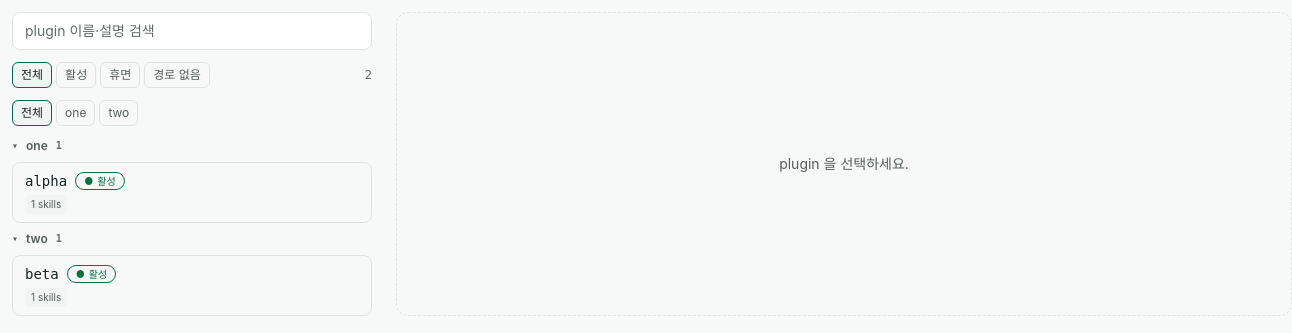
Test: PluginCatalog 토글 › 그룹 헤더 클릭 시 해당 그룹 plugin 이 사라졌다 나타난다
Expected: the text "alpha" is shown, [25, 171, 67, 191]
Click the button "▾ one 1": (15, 146) [12, 138, 372, 154]
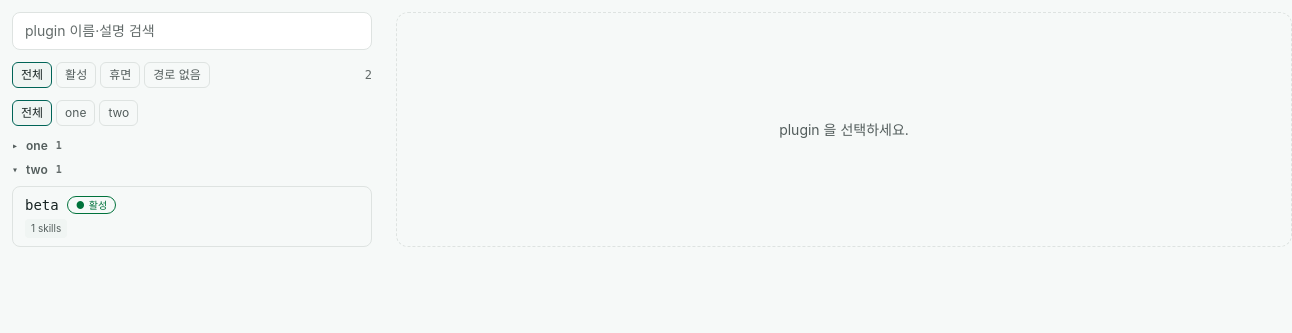
Expected: the button "alpha" is gone
Click the button "▸ one 1": (15, 146) [12, 138, 372, 154]
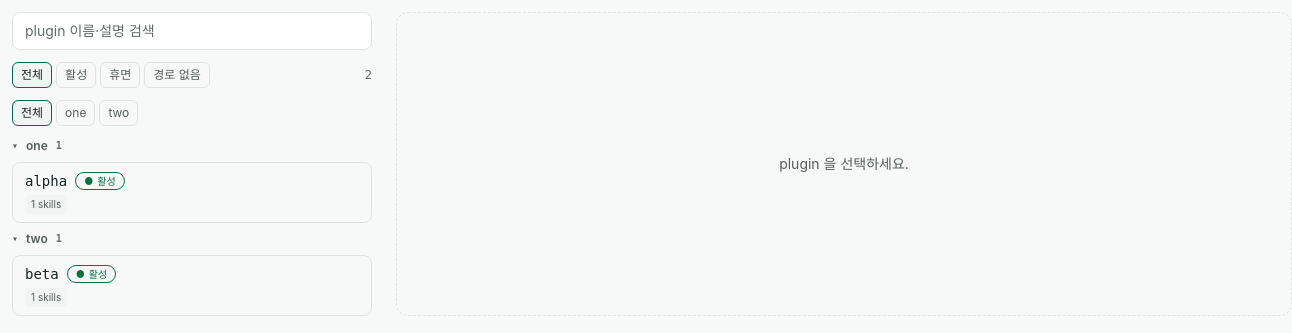
Expected: the text "alpha" is shown, [25, 171, 67, 191]
